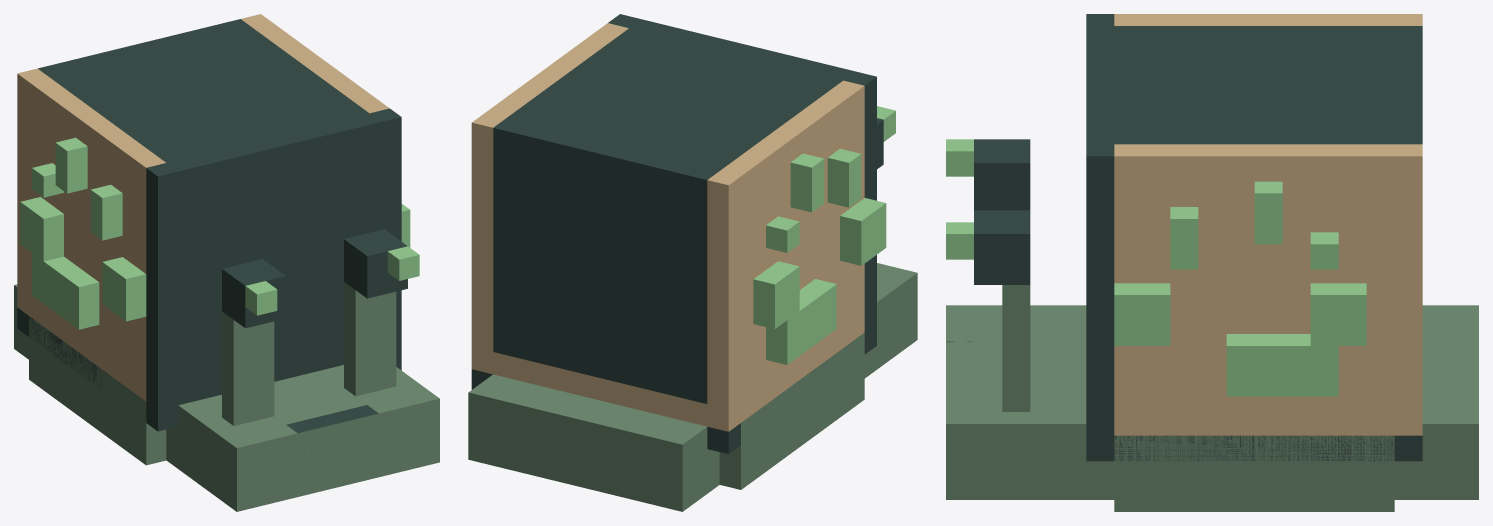
The model's file is silt_snail.glb.
3 views of the same model, side by side, from view 1: azimuth 30°, elevation 25°; view 2: azimuth 150°, elevation 25°; view 3: azimuth 270°, elevation 25° (orthographic). The views are drawn at different scales.
Visible parts, largest first — view 1: silt_snail/shell, silt_snail/foot, silt_snail/eye_stalk_1, silt_snail/eye_stalk_-1, silt_snail/mouth; view 2: silt_snail/shell, silt_snail/foot, silt_snail/eye_stalk_-1; view 3: silt_snail/shell, silt_snail/foot, silt_snail/eye_stalk_1, silt_snail/eye_stalk_-1.
Boxes of the visible parts, x1,y1,x2,y2 form: silt_snail/shell: (17, 14, 410, 431); silt_snail/foot: (14, 284, 439, 511); silt_snail/eye_stalk_1: (344, 229, 419, 396); silt_snail/eye_stalk_-1: (222, 259, 285, 425); silt_snail/mouth: (286, 405, 378, 451); silt_snail/shell: (471, 14, 886, 454); silt_snail/foot: (468, 263, 917, 511); silt_snail/eye_stalk_-1: (877, 106, 895, 168); silt_snail/shell: (1086, 14, 1422, 461); silt_snail/foot: (946, 305, 1478, 511); silt_snail/eye_stalk_1: (946, 210, 1030, 411); silt_snail/eye_stalk_-1: (946, 139, 1030, 210).
Size of the model in its own units: 0.4375 by 0.4375 by 0.5938.
